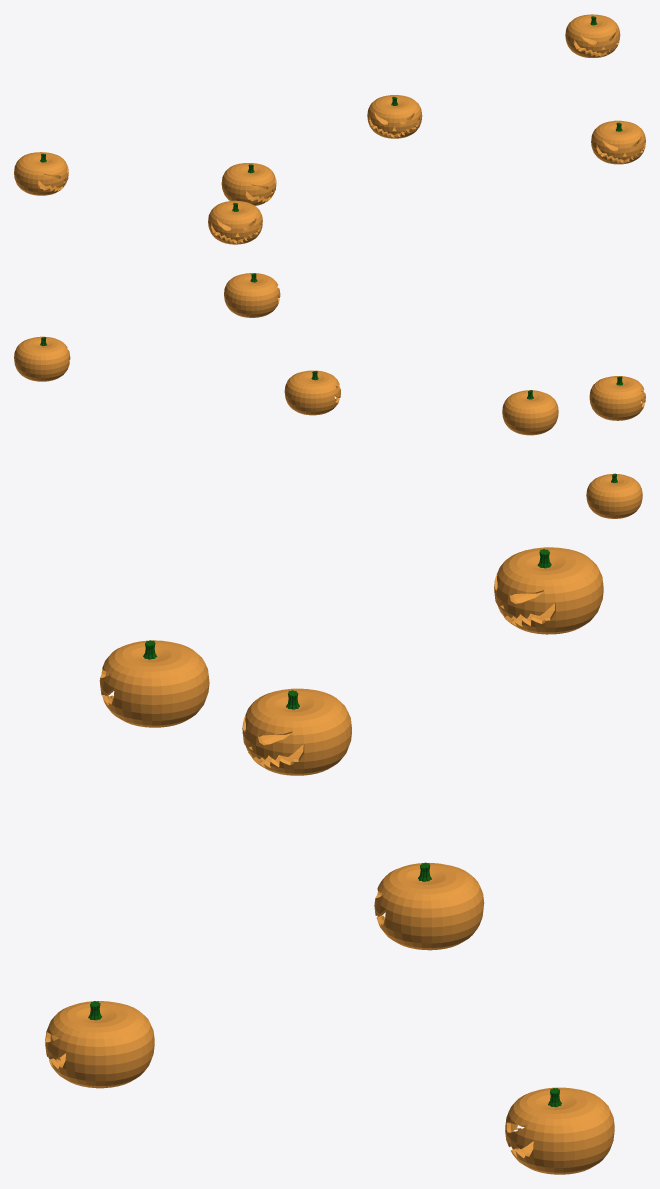
Rendered from pumpkins.61884a11.glb.
The picture shows the model from 3 angles, top to bottom: view 1: azimuth 30°, elevation 25°; view 2: azimuth 150°, elevation 25°; view 3: azimuth 270°, elevation 25°; orthographic projection. The views are drawn at different scales.
Visible parts, largest first — view 1: pumpkin.002, pumpkin.001, pumpkin.006, pumpkin.003, pumpkin.005, pumpkin.004; view 2: pumpkin.004, pumpkin.001, pumpkin.005, pumpkin.003, pumpkin.006, pumpkin.002; view 3: pumpkin.004, pumpkin.005, pumpkin.002, pumpkin.003, pumpkin.001, pumpkin.006.
Part boxes in pixels (<box>): pumpkin.002: <box>591,120,645,164</box>; pumpkin.001: <box>565,14,620,57</box>; pumpkin.006: <box>208,200,262,244</box>; pumpkin.003: <box>367,95,422,138</box>; pumpkin.005: <box>14,152,68,195</box>; pumpkin.004: <box>221,163,276,205</box>; pumpkin.004: <box>502,390,558,435</box>; pumpkin.001: <box>14,336,70,381</box>; pumpkin.005: <box>586,473,642,518</box>; pumpkin.003: <box>284,370,340,415</box>; pumpkin.006: <box>589,376,645,420</box>; pumpkin.002: <box>224,273,280,317</box>; pumpkin.004: <box>242,688,351,775</box>; pumpkin.005: <box>494,547,603,634</box>; pumpkin.002: <box>45,1001,154,1088</box>; pumpkin.003: <box>374,863,484,950</box>; pumpkin.001: <box>505,1087,614,1174</box>; pumpkin.006: <box>99,640,209,727</box>.
Bounding box in the file's own units: 18.9 × 1.12 × 7.75.
